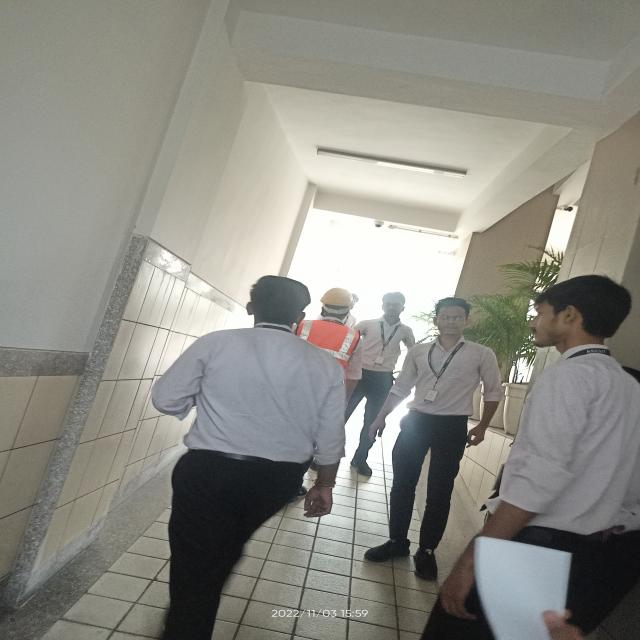unsafe: (438, 270, 638, 640), (159, 280, 342, 638), (350, 287, 506, 576), (347, 294, 412, 482)
